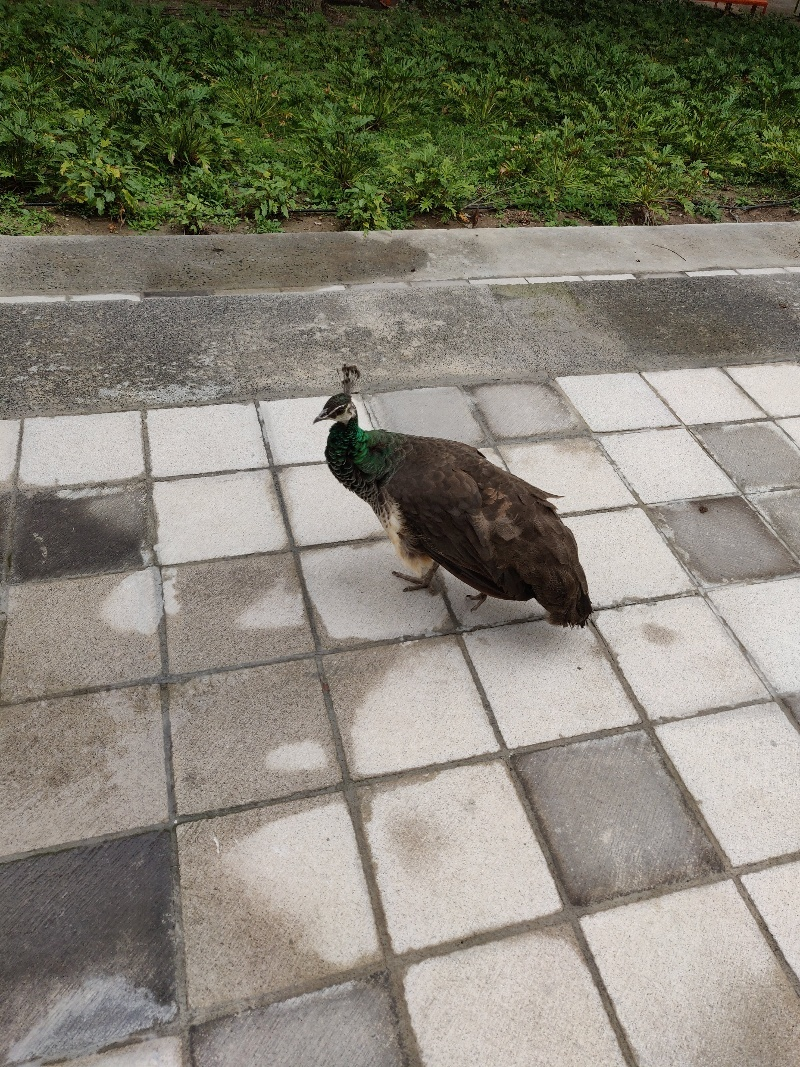pavoreal: (310, 357, 587, 645)
